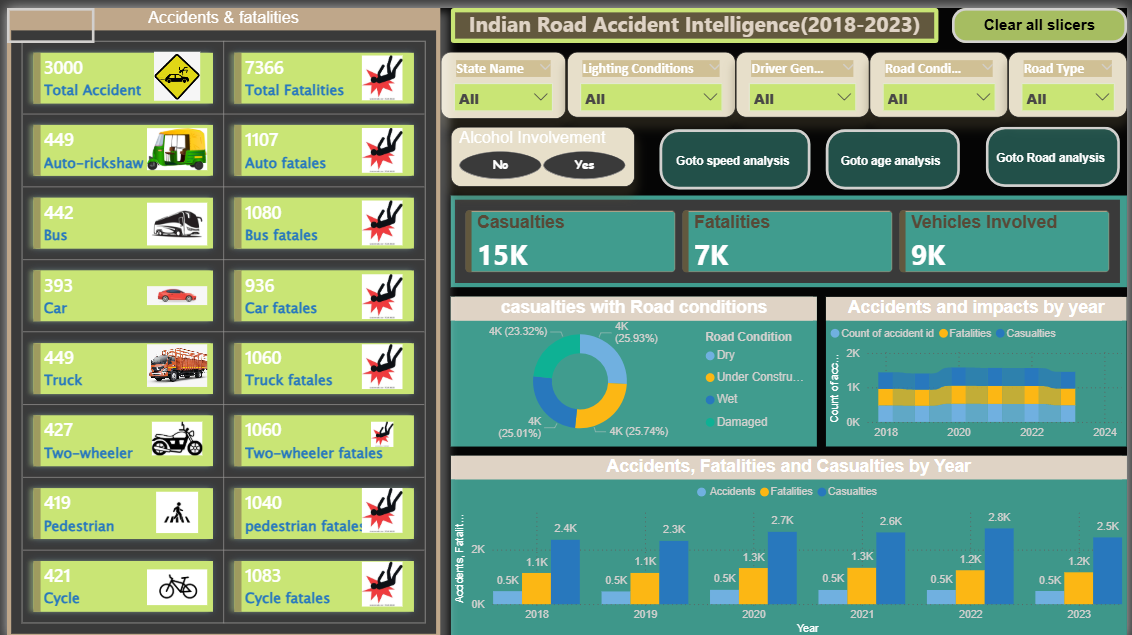

What the dashboard file says about the page in this screenshot:
{"tool":"powerbi","page":{"name":"Main overview","canvas":[1280,720],"ordinal":0},"visuals":[{"type":"clusteredColumnChart","fields":{"Category":["accident_prediction_india.Year"],"Y":["CountNonNull(accident_prediction_india.accident id)","Sum(accident_prediction_india.Number of Fatalities)","Sum(accident_prediction_india.Number of Casualties)"]},"box":[507.5,511.2,772.5,208.8],"z":0},{"type":"slicer","fields":{"Values":["accident_prediction_india.State Name"]},"box":[495,50,143,77],"z":1000},{"type":"slicer","fields":{"Values":["accident_prediction_india.Lighting Conditions"]},"box":[640,50,192.5,75],"z":2000},{"type":"slicer","fields":{"Values":["accident_prediction_india.Driver Gender"]},"box":[832.5,50,152.5,75],"z":3000},{"type":"slicer","fields":{"Values":["accident_prediction_india.Road Condition"]},"box":[985,50,158.8,75],"z":4000},{"type":"slicer","fields":{"Values":["accident_prediction_india.Road Type"]},"box":[1143.8,50,136.2,75],"z":5000},{"type":"actionButton","box":[1080,0,200,40],"z":6000},{"type":"donutChart","title":"casualties with Road conditions","fields":{"Category":["accident_prediction_india.Road Condition"],"Y":["Sum(accident_prediction_india.Number of Casualties)"]},"box":[507.5,330,418.8,171.2],"z":7000},{"type":"ribbonChart","title":"Accidents and impacts by year","fields":{"Category":["accident_prediction_india.Year"],"Y":["CountNonNull(accident_prediction_india.accident id)","CountNonNull(accident_prediction_india.Number of Fatalities)","CountNonNull(accident_prediction_india.Number of Casualties)"]},"box":[936.2,330,343.8,171.2],"z":8000},{"type":"cardVisual","fields":{"Data":["Sum(accident_prediction_india.Number of Casualties)","Sum(accident_prediction_india.Number of Fatalities)","Sum(accident_prediction_india.Number of Vehicles Involved)"]},"box":[507.5,213.8,772.5,105],"z":9000},{"type":"advancedSlicerVisual","fields":{"Values":["accident_prediction_india.Alcohol Involvement"]},"box":[507.5,136.2,210,68.8],"z":10000},{"type":"cardVisual","title":"Accidents & fatalities","fields":{"Data":["CountNonNull(accident_prediction_india.accident id)","Sum(accident_prediction_india.Number of Fatalities)","accident_prediction_india.Auto-rickshaw","accident_prediction_india.auto fatales","accident_prediction_india.bus count","accident_prediction_india.bus fatales","accident_prediction_india.car count","accident_prediction_india.car fatales","accident_prediction_india.Truck count","accident_prediction_india.truck fatales","accident_prediction_india.two-wheeler count","accident_prediction_india.2-wheeler fatales"]},"box":[0,0,495,720],"z":12000},{"type":"image","box":[160,136.2,68.8,51.2],"z":13000},{"type":"image","box":[160,383.8,68.8,48.8],"z":14000},{"type":"image","box":[160,640,68.8,43.8],"z":15000},{"type":"image","box":[160,472.5,68.8,38.8],"z":16000},{"type":"image","box":[160,303.8,68.8,48.8],"z":17000},{"type":"image","box":[160,552.5,68.8,47.5],"z":18000},{"type":"image","box":[160,205,68.8,82.5],"z":19000},{"type":"shape","title":"INDIAN ROAD ANAYLICS","box":[507.5,0,557.5,40],"z":20000},{"type":"image","box":[160,50,68.8,56.2],"z":21000},{"type":"image","box":[400,137.5,57.5,51.2],"z":22000},{"type":"image","box":[400,220,57.5,51.2],"z":23000},{"type":"image","box":[400,303.8,57.5,51.2],"z":24000},{"type":"image","box":[400,383.8,57.5,51.2],"z":25000},{"type":"image","box":[400,548.8,57.5,51.2],"z":26000},{"type":"image","box":[400,632.5,57.5,51.2],"z":27000},{"type":"image","box":[400,53.8,57.5,51.2],"z":28000},{"type":"image","box":[400,472.5,57.5,28.8],"z":29000},{"type":"actionButton","box":[745.6,138.7,172.5,68.8],"z":31000},{"type":"actionButton","box":[935.7,138.6,154.3,68.6],"z":32000},{"type":"actionButton","box":[1108.6,135.7,162.9,70],"z":32001}]}

Visuals, with their boxes in screenshot pixels (x1, y1, x2, y2), scaled from the page's 1280x720 canvas onto the 1132x635 screenshot:
clusteredColumnChart - accident_prediction_india.Year x CountNonNull(accident_prediction_india.accident id): (449,451,1131,634)
slicer - accident_prediction_india.State Name: (438,44,564,112)
slicer - accident_prediction_india.Lighting Conditions: (566,44,736,110)
slicer - accident_prediction_india.Driver Gender: (736,44,871,110)
slicer - accident_prediction_india.Road Condition: (871,44,1012,110)
slicer - accident_prediction_india.Road Type: (1012,44,1131,110)
actionButton: (955,0,1131,35)
"casualties with Road conditions" donutChart: (449,291,819,442)
"Accidents and impacts by year" ribbonChart: (828,291,1131,442)
cardVisual - Sum(accident_prediction_india.Number of Casualties) x Sum(accident_prediction_india.Number of Fatalities): (449,189,1131,281)
advancedSlicerVisual - accident_prediction_india.Alcohol Involvement: (449,120,635,181)
"Accidents & fatalities" cardVisual: (0,0,438,634)
image: (142,120,202,165)
image: (142,338,202,382)
image: (142,564,202,603)
image: (142,417,202,451)
image: (142,268,202,311)
image: (142,487,202,529)
image: (142,181,202,254)
"INDIAN ROAD ANAYLICS" shape: (449,0,942,35)
image: (142,44,202,94)
image: (354,121,405,166)
image: (354,194,405,239)
image: (354,268,405,313)
image: (354,338,405,384)
image: (354,484,405,529)
image: (354,558,405,603)
image: (354,47,405,93)
image: (354,417,405,442)
actionButton: (659,122,812,183)
actionButton: (828,122,964,183)
actionButton: (980,120,1124,181)
